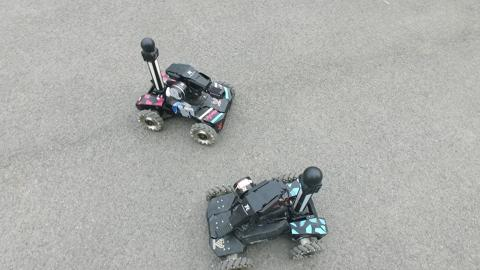chariot: (196, 163, 353, 270), (120, 32, 252, 156)
